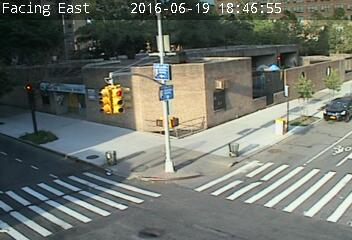neg: (45, 166, 68, 198), (34, 44, 56, 73), (160, 161, 181, 189), (51, 85, 71, 112), (38, 126, 58, 152), (208, 53, 227, 79), (278, 72, 297, 98), (135, 34, 154, 60), (319, 112, 338, 137), (269, 180, 288, 205), (158, 93, 176, 117), (106, 93, 124, 117), (273, 117, 290, 140), (307, 158, 324, 181), (226, 139, 241, 160), (135, 130, 150, 150), (135, 204, 149, 223), (106, 145, 120, 163), (275, 23, 289, 41), (73, 39, 87, 57), (221, 189, 234, 207)
